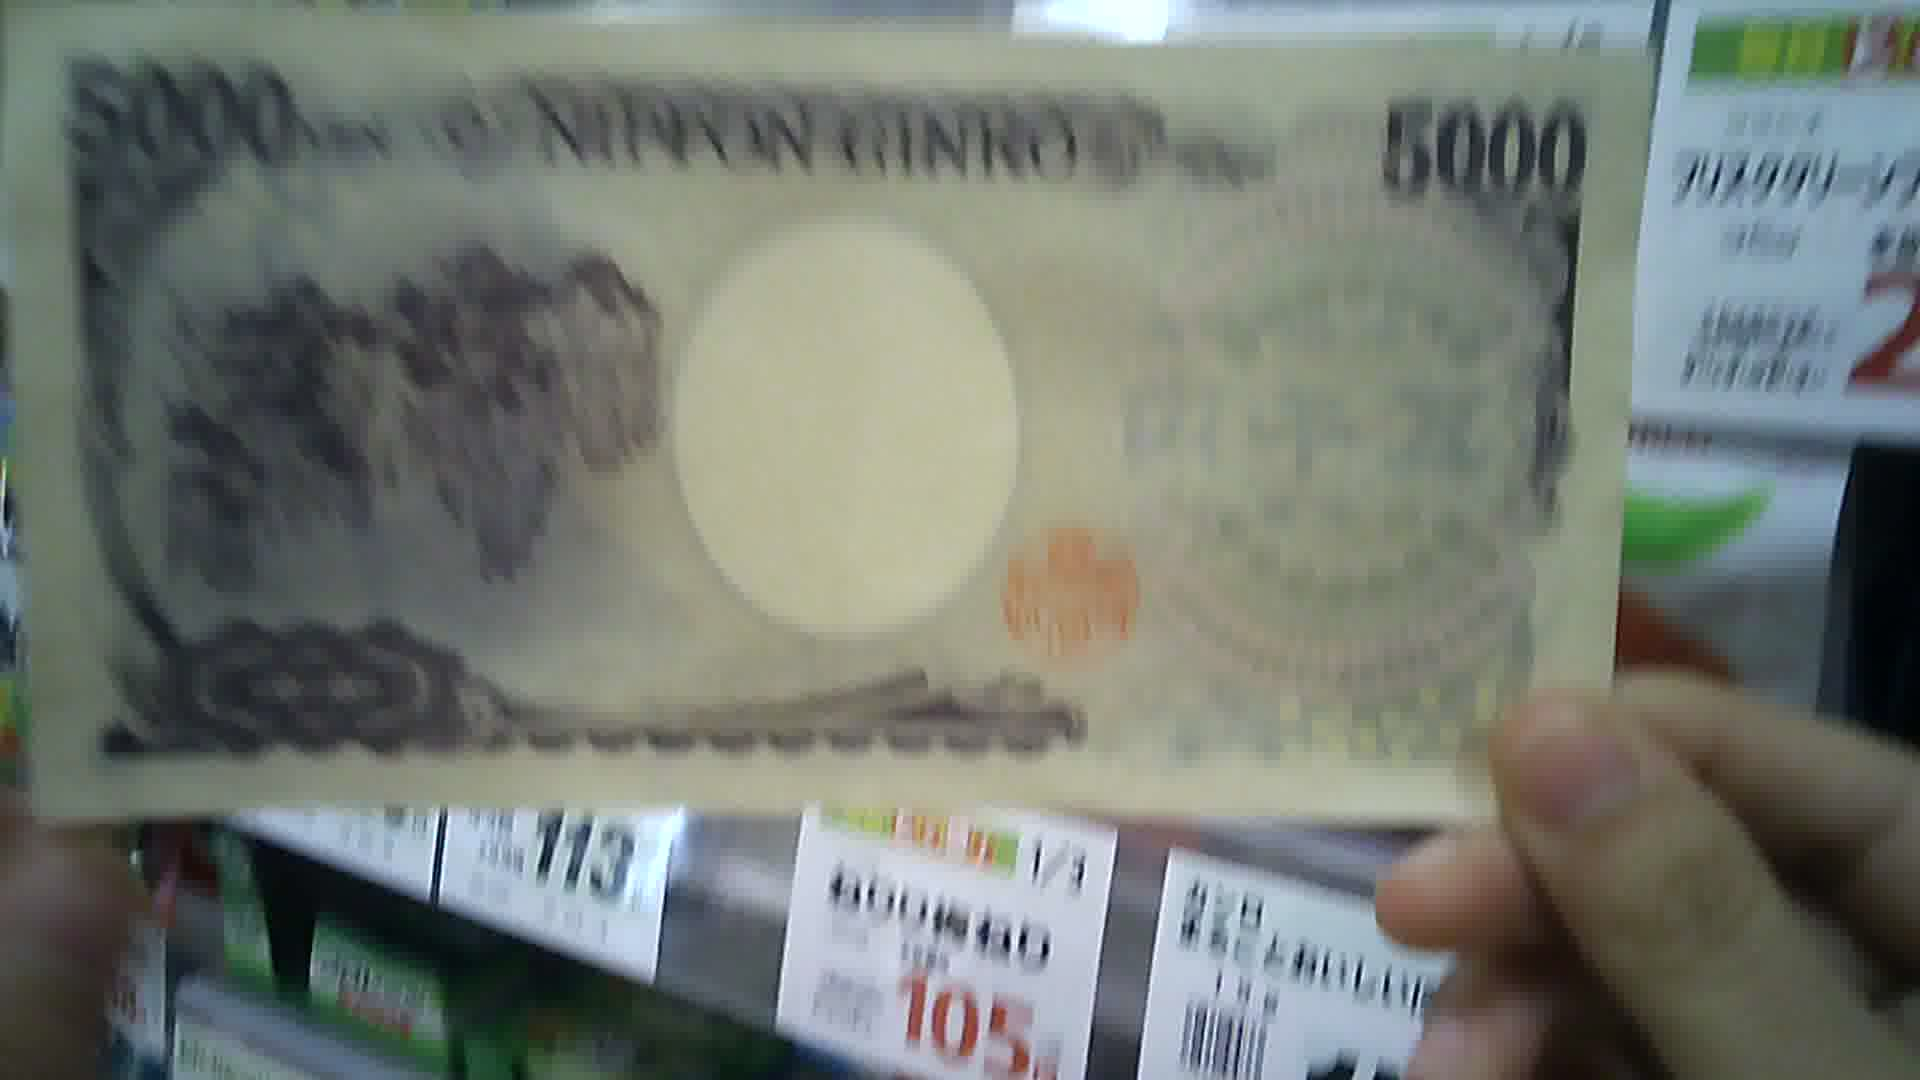5,000 Yen: (11, 11, 1596, 807)
